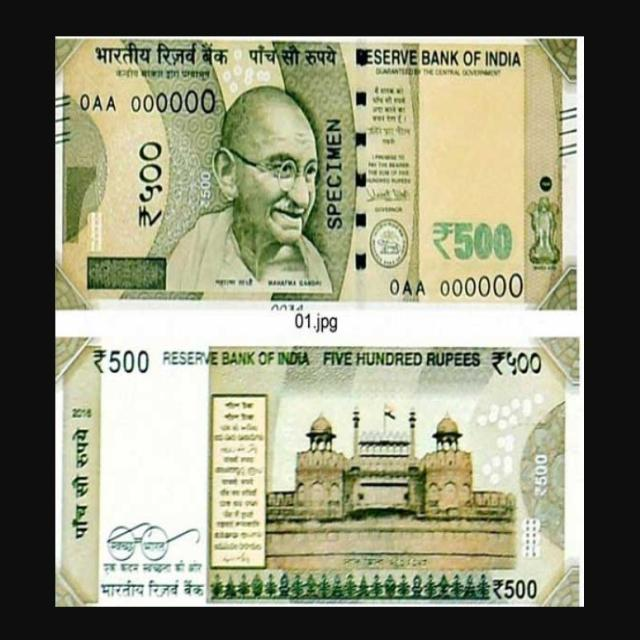500IndianRupees: (54, 340, 584, 606)
